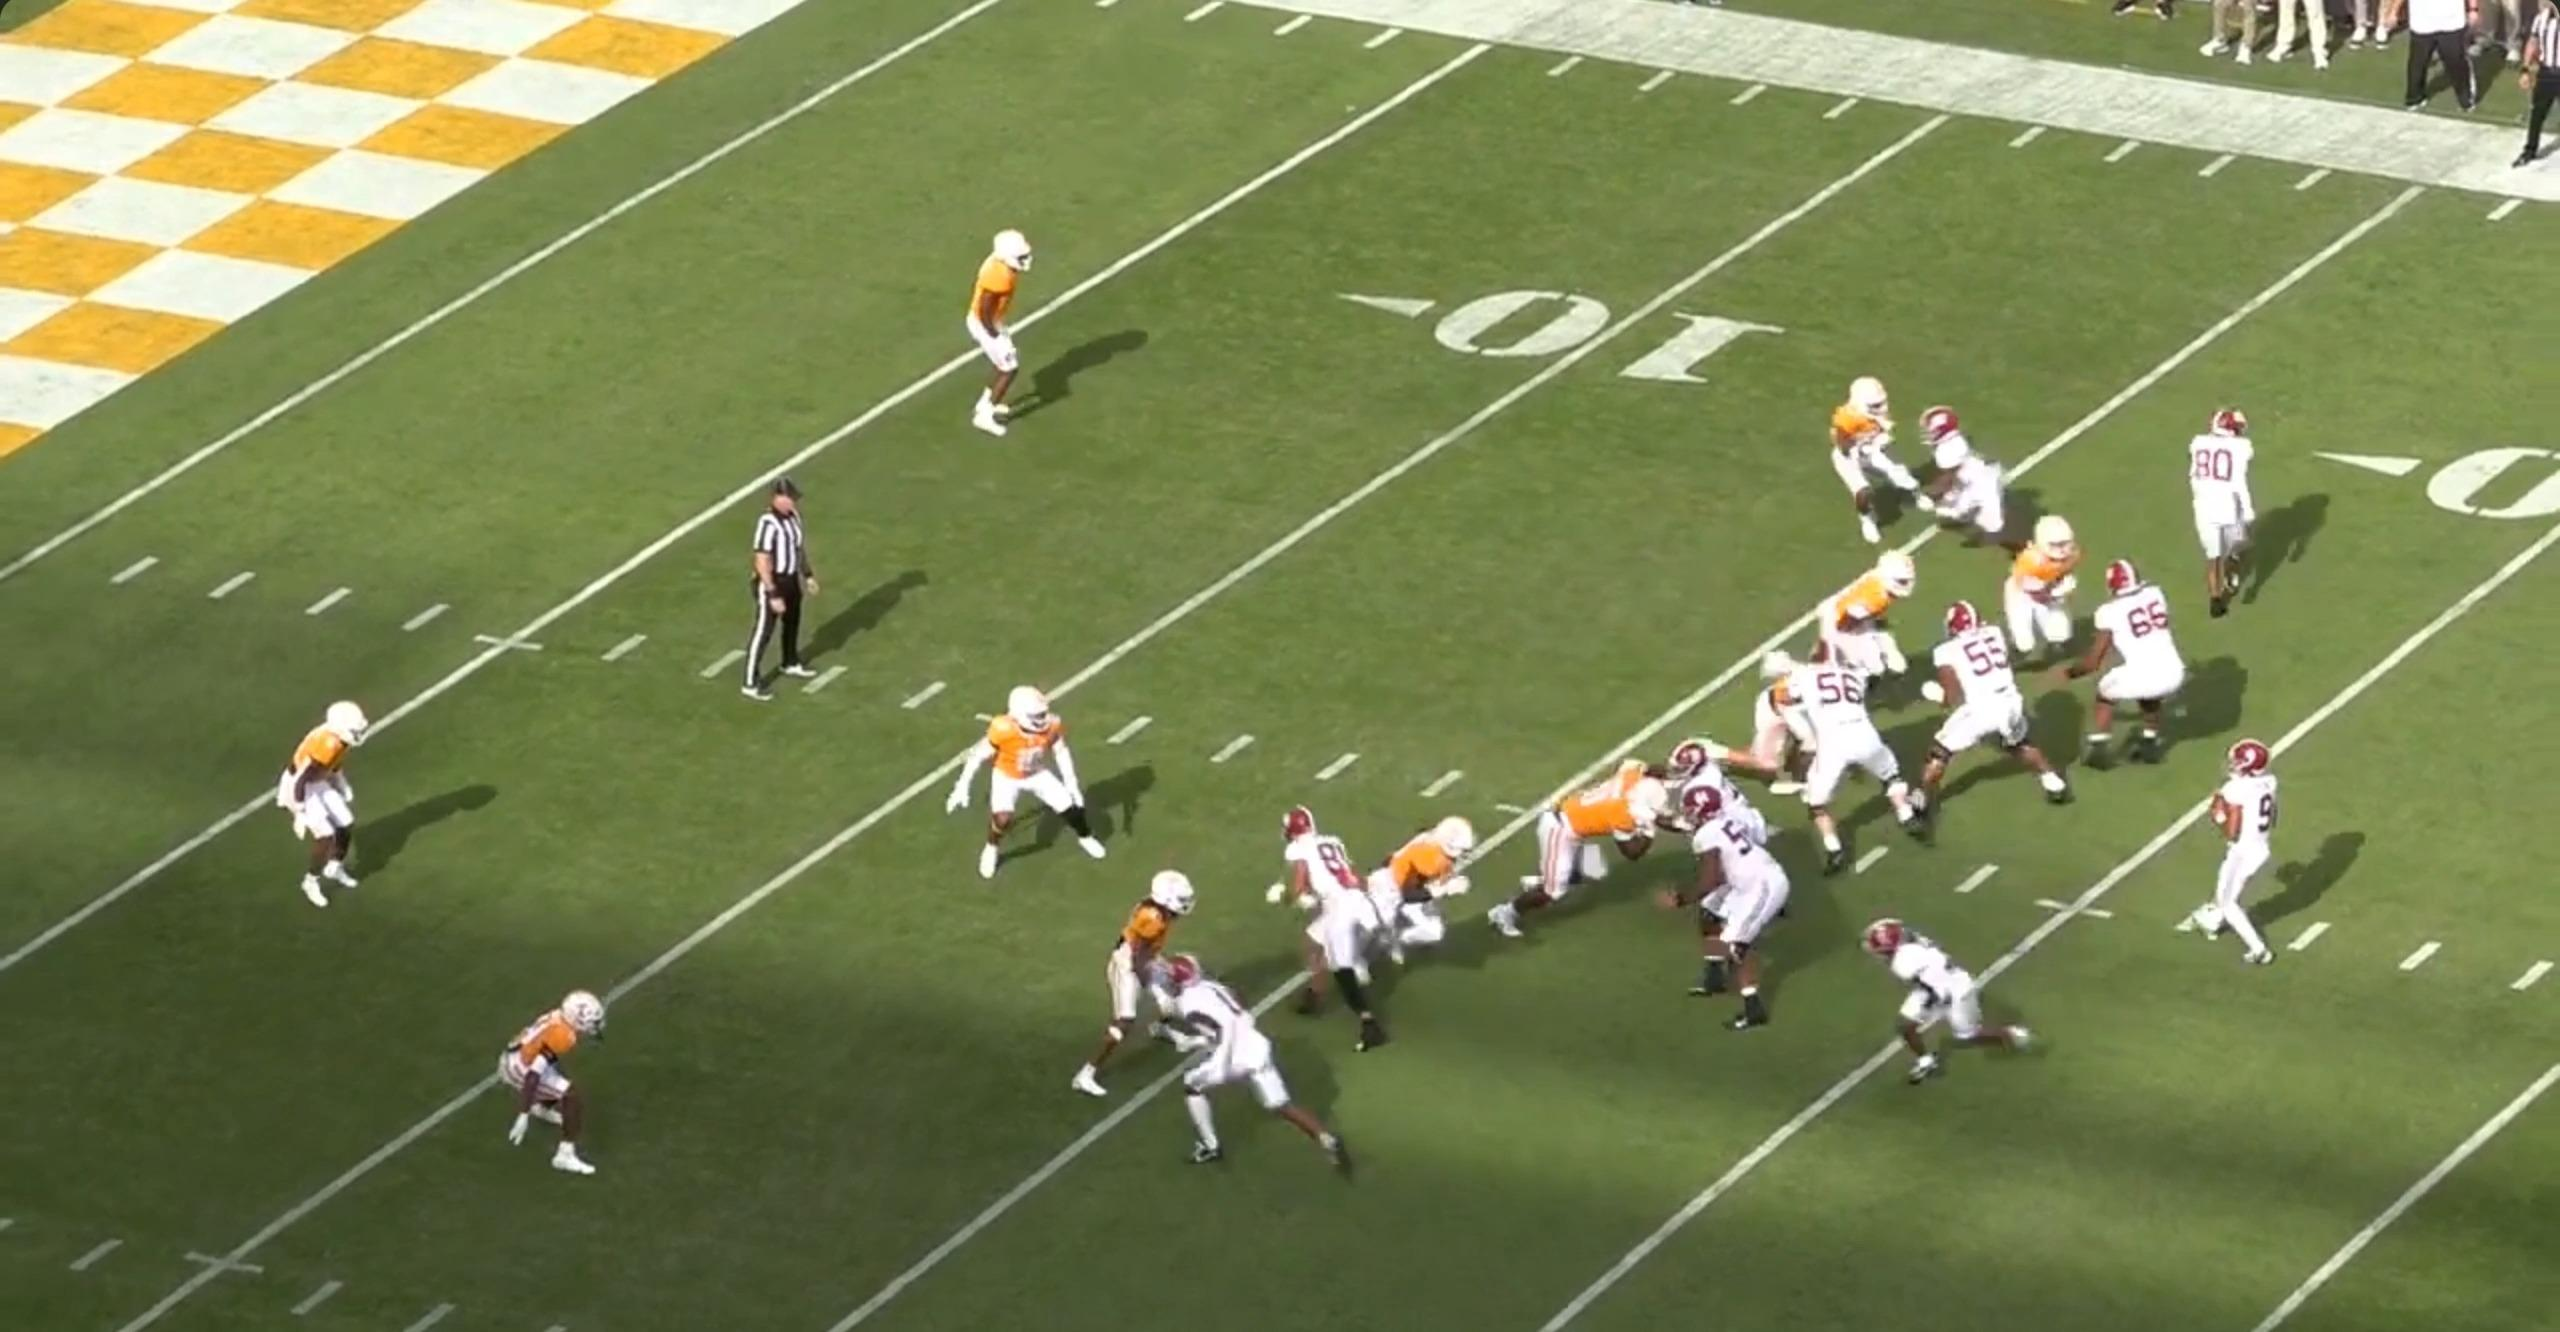player: (1164, 945, 1369, 1178), (1760, 643, 1936, 876), (1902, 599, 2081, 819), (1496, 771, 1701, 941), (1272, 797, 1408, 1052), (1670, 768, 1794, 1042), (1077, 870, 1213, 1108), (948, 689, 1103, 890), (1861, 916, 2033, 1094), (2055, 550, 2181, 773), (268, 691, 371, 904), (2200, 733, 2295, 963), (503, 984, 614, 1179), (950, 225, 1043, 450), (2176, 401, 2267, 623), (1362, 810, 1480, 977), (1680, 663, 1816, 802), (1894, 408, 2017, 560), (1822, 368, 1927, 544), (1822, 546, 1931, 698), (1651, 741, 1780, 858), (2007, 511, 2099, 675)
ref: (732, 486, 815, 713)
